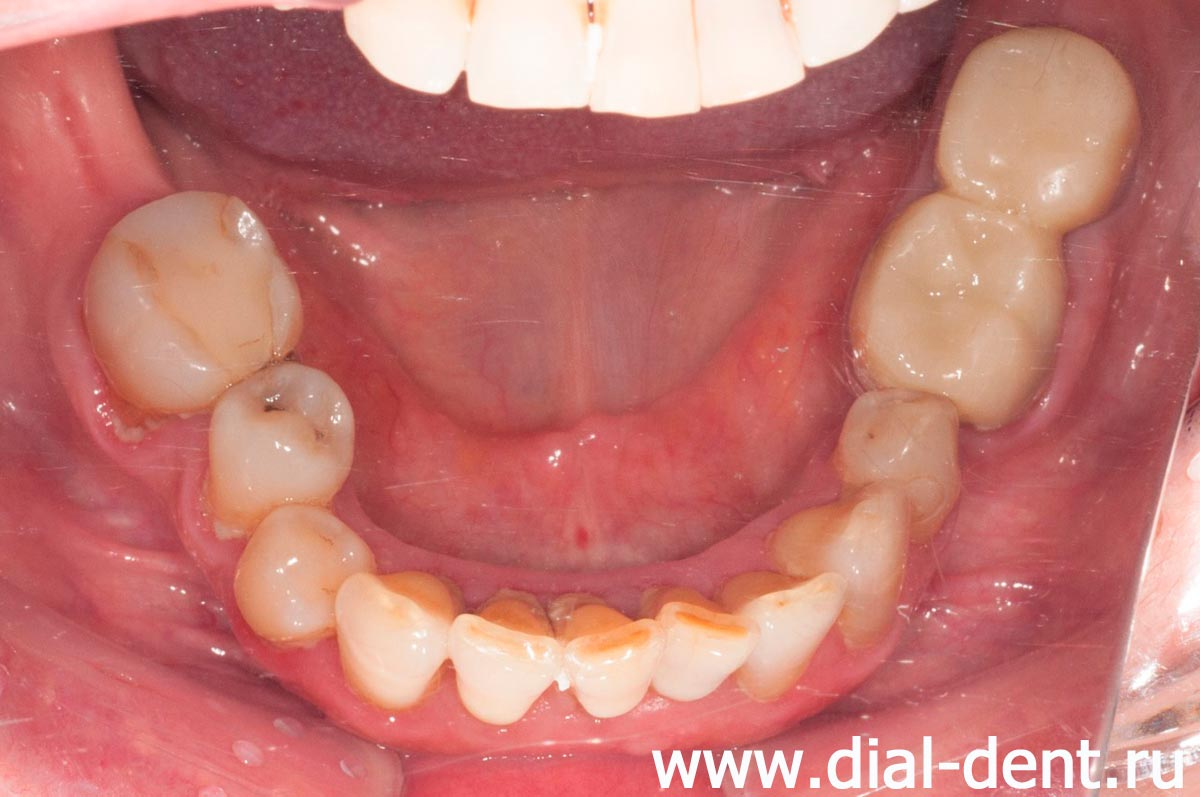LL1BC_healthy: (778, 482, 932, 650)
LL1M_healthy: (842, 191, 1068, 427)
LL2BC_decay: (831, 383, 972, 531)
LL2M_healthy: (934, 20, 1145, 226)
LLCI_decay: (562, 606, 652, 721)
LLC_decay: (714, 566, 853, 717)
LLLI_decay: (651, 584, 756, 717)
LR1BC_decay: (203, 360, 355, 542)
LR2BC_decay: (74, 175, 299, 417)
LRCI_healthy: (448, 583, 563, 722)
LRC_decay: (232, 503, 374, 649)
LRLI_healthy: (332, 564, 449, 713)
